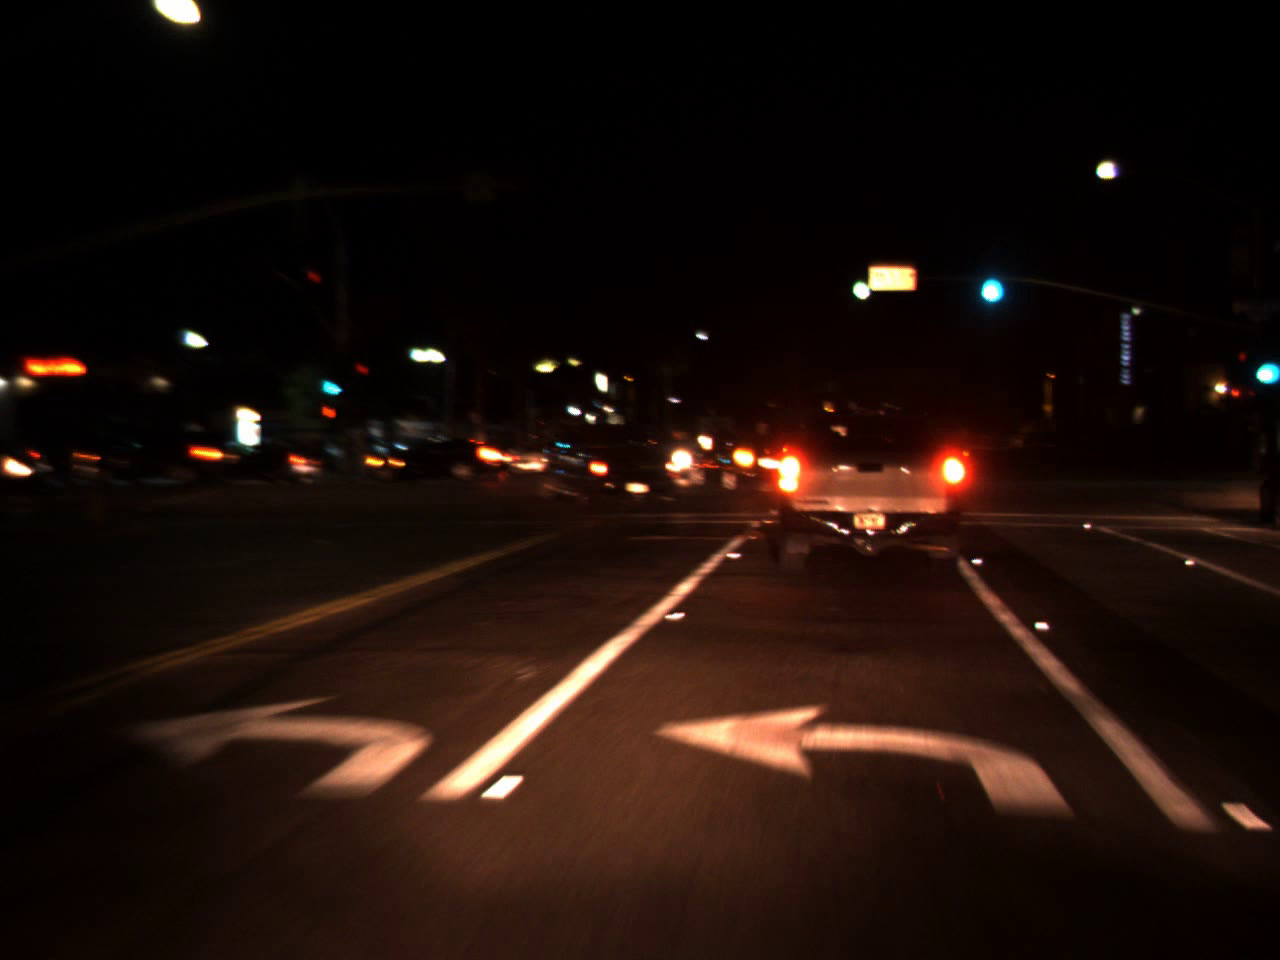go: (972, 247, 1008, 313), (846, 263, 873, 305), (316, 364, 343, 400)
